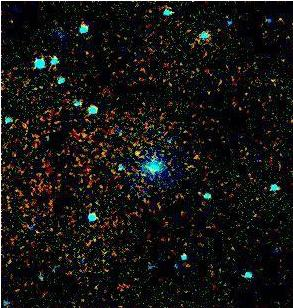star: (120, 136, 150, 166)
